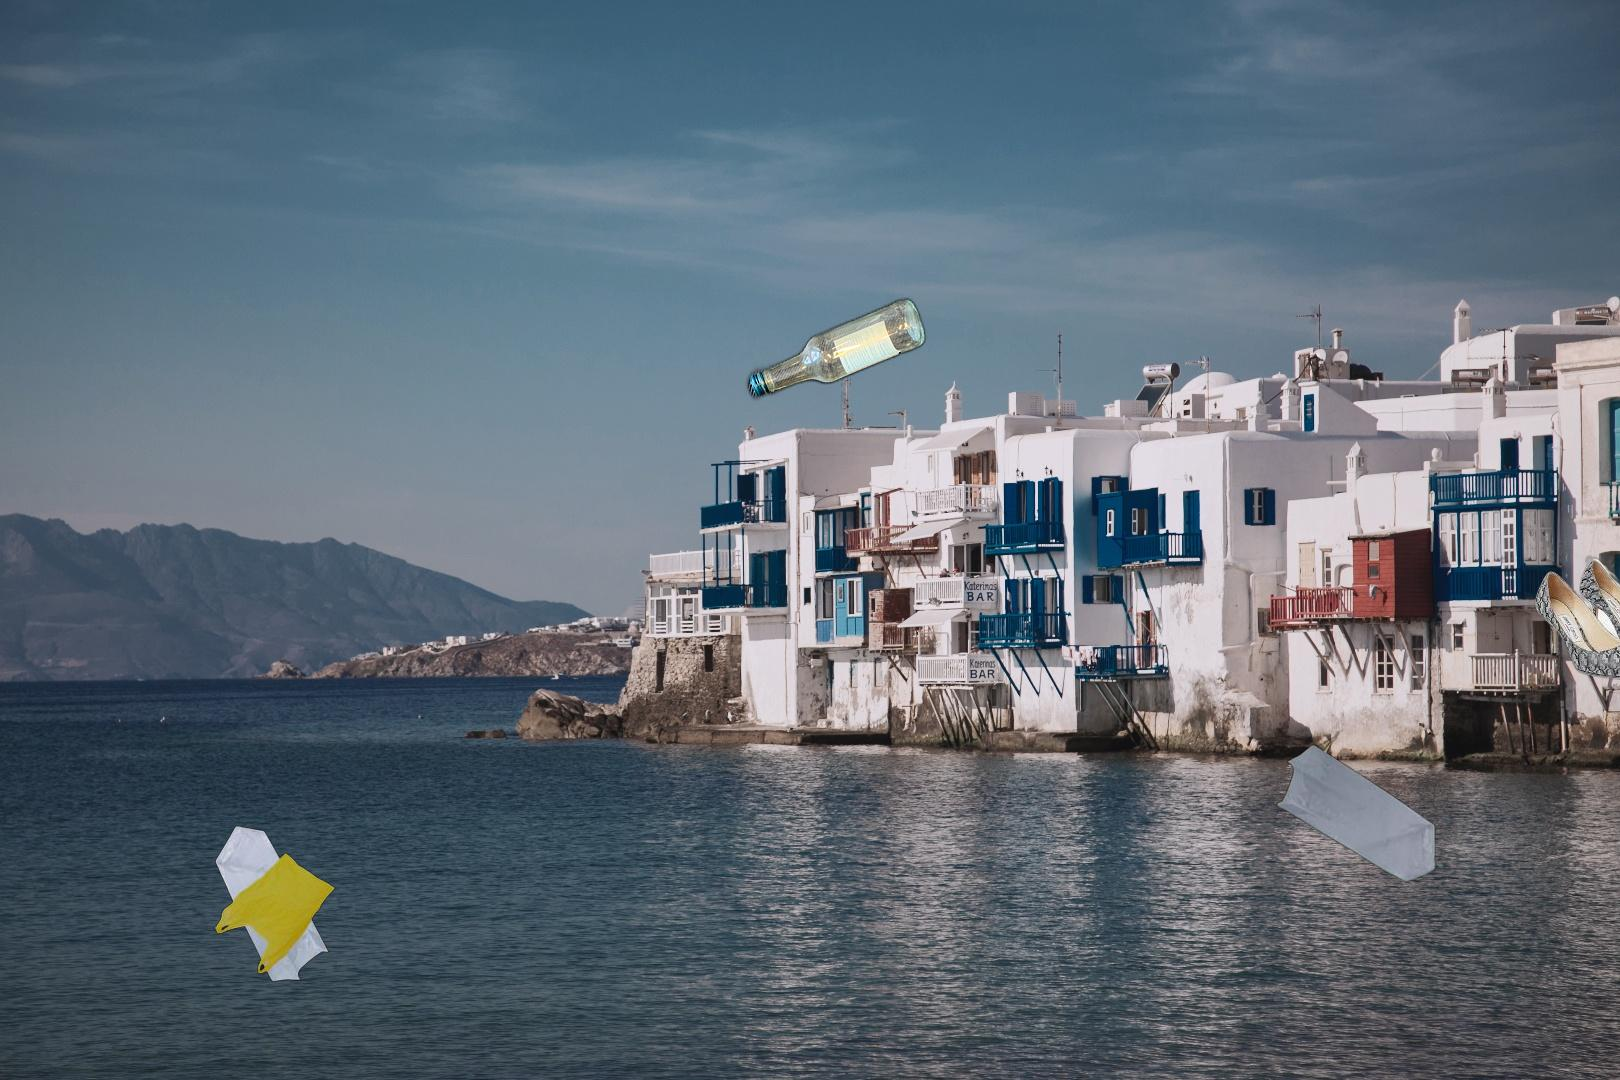glass: (557, 293, 931, 790)
plastic-bag: (1273, 730, 1439, 884), (215, 823, 337, 985)
shoes: (1518, 554, 1620, 683)
